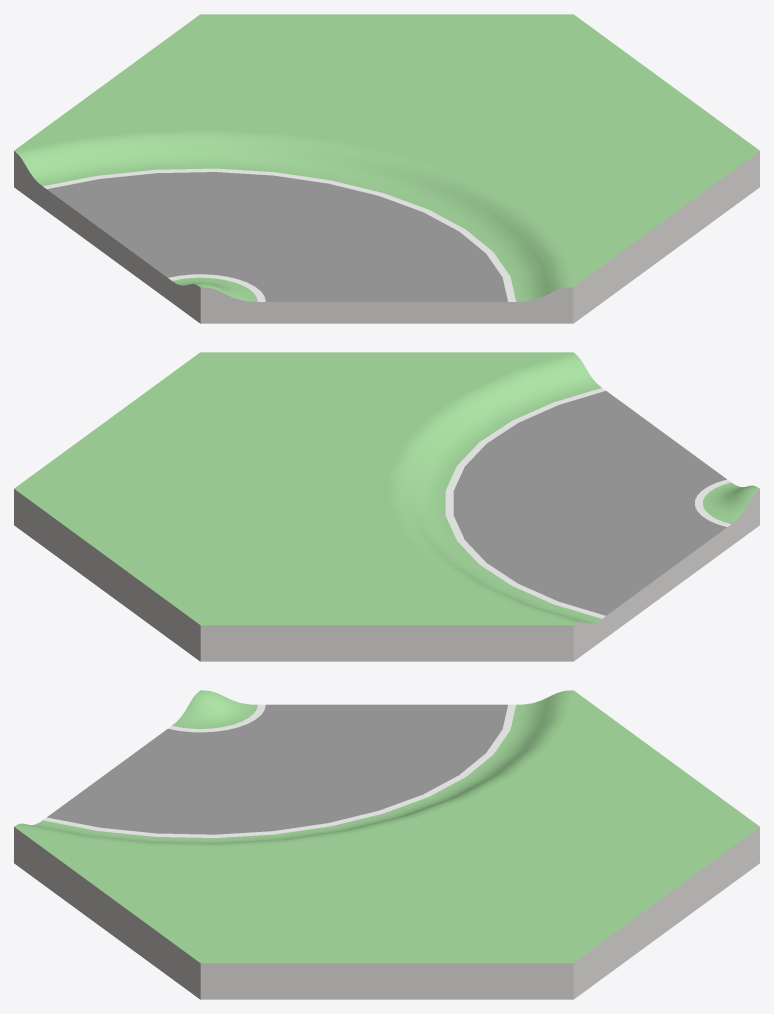
The model's file is Track_Flat_Curve_Sharp.glb.
3 views of the same model, one above another, from view 1: azimuth 30°, elevation 25°; view 2: azimuth 150°, elevation 25°; view 3: azimuth 270°, elevation 25° (orthographic).
Visible parts, largest first — view 1: object1; view 2: object1; view 3: object1.
Part boxes in pixels (box(x1,y1,x2,y2)): object1: box(14, 14, 759, 323); object1: box(14, 352, 759, 661); object1: box(14, 690, 759, 999).
Size of the model in its own units: 1 by 0.0625 by 1.15.
